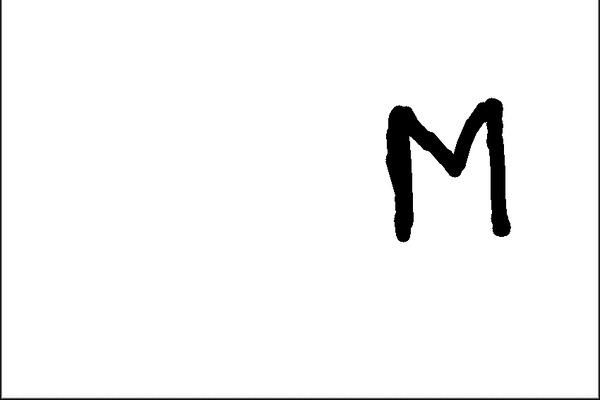M: (380, 95, 514, 245)
